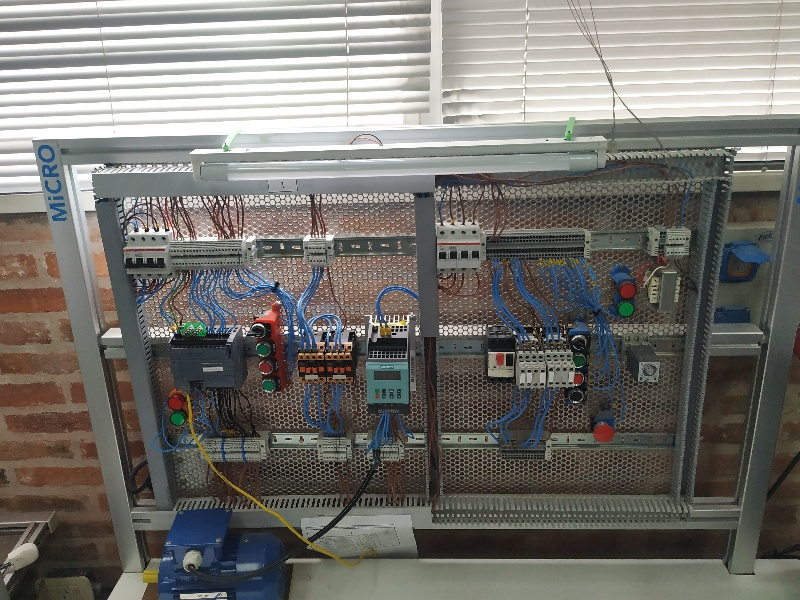Tablero 1: (105, 185, 706, 527)
